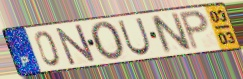0: (34, 30, 62, 67)
N: (148, 10, 194, 55), (54, 23, 98, 67)
O: (89, 20, 127, 62)
P: (177, 9, 211, 52)
U: (116, 17, 153, 57)
